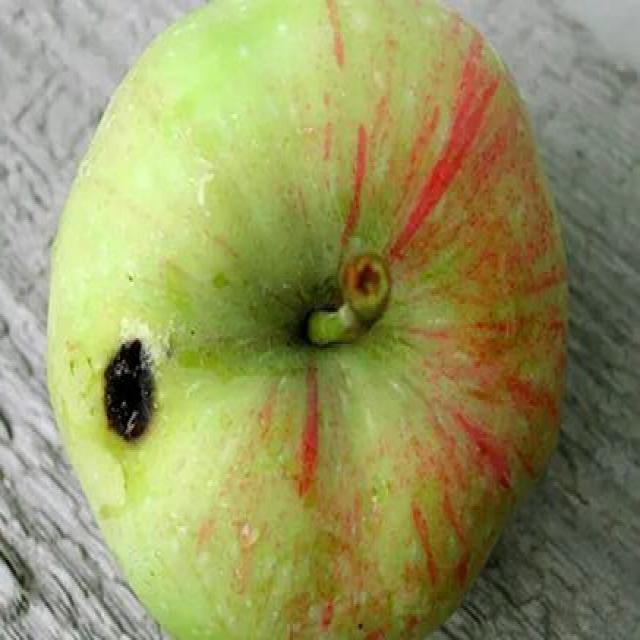Rotten: (38, 10, 560, 640)
